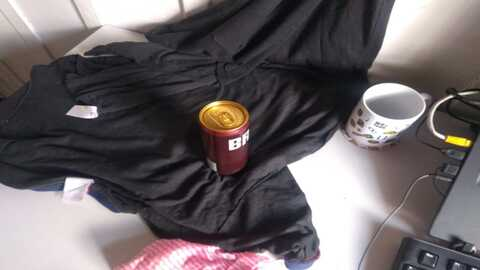duplo_malte: (197, 98, 249, 179)
